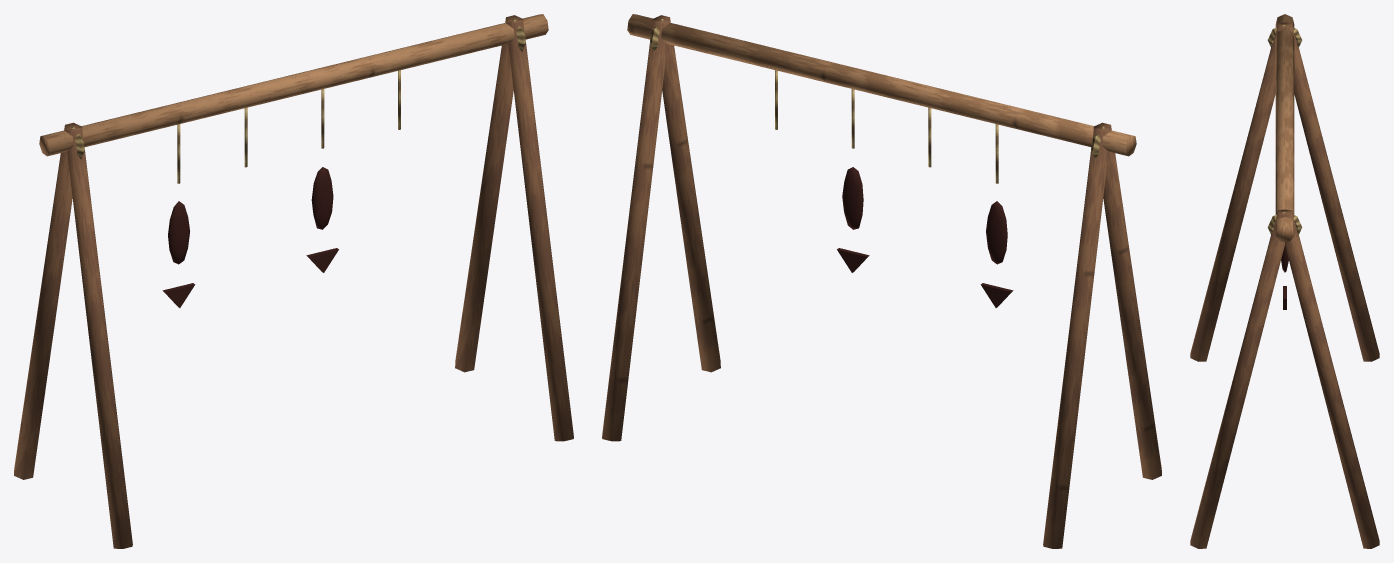
File: drying_rack.glb
3 views of the same model, side by side, from view 1: azimuth 30°, elevation 25°; view 2: azimuth 150°, elevation 25°; view 3: azimuth 270°, elevation 25° (orthographic). The views are drawn at different scales.
Visible parts, largest first — view 1: drying_rack_frame, drying_rack_fish; view 2: drying_rack_frame, drying_rack_fish; view 3: drying_rack_frame.
Part boxes in pixels (box(x1,y1,x2,y2)): drying_rack_frame: box(14, 14, 573, 548); drying_rack_fish: box(162, 167, 338, 307); drying_rack_frame: box(602, 14, 1161, 548); drying_rack_fish: box(837, 167, 1013, 307); drying_rack_frame: box(1190, 14, 1379, 548).
Size of what is drawn, in the model's own units: 2.6 by 1.92 by 0.9843.
4 materials, 4 textured.
